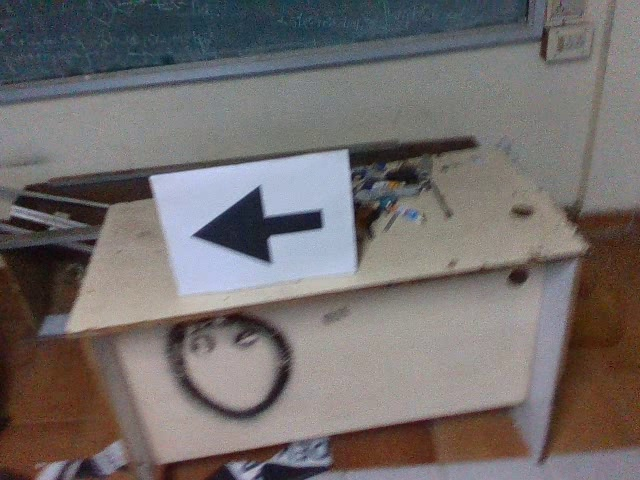Left: (187, 180, 327, 269)
